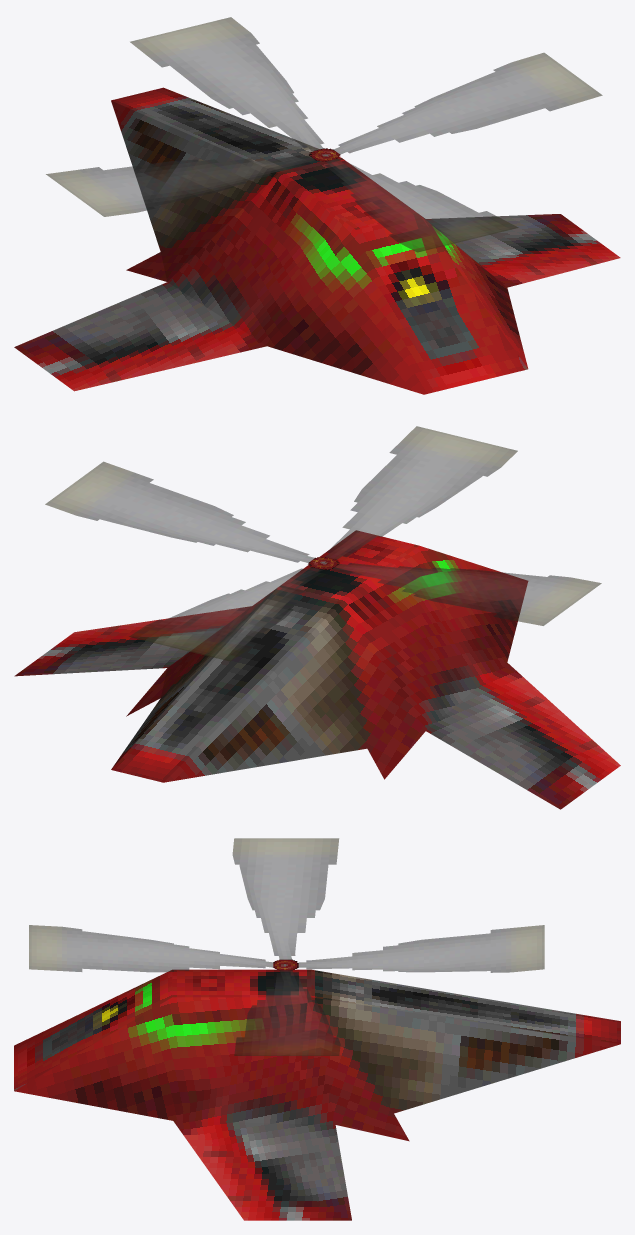
3 views of the same model, one above another, from view 1: azimuth 30°, elevation 25°; view 2: azimuth 150°, elevation 25°; view 3: azimuth 270°, elevation 25° (orthographic). The views are drawn at different scales.
Visible parts, largest first — view 1: Hk_obj_022; view 2: Hk_obj_022; view 3: Hk_obj_022.
Part boxes in pixels (x1,y1,x2,y2): Hk_obj_022: [14, 17, 620, 394]; Hk_obj_022: [14, 426, 620, 809]; Hk_obj_022: [14, 838, 620, 1220].
Bounding box in the file's own units: 1.4 × 0.4219 × 1.5.
2 materials, 2 textured.
